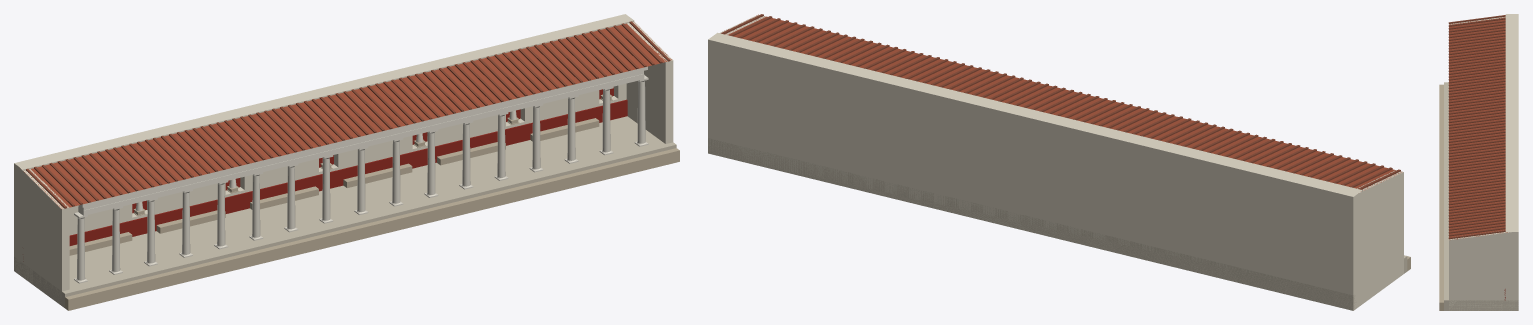
The model's file is ant_portico.glb.
3 renders of one model, left to right at view 1: azimuth 30°, elevation 25°; view 2: azimuth 150°, elevation 25°; view 3: azimuth 270°, elevation 25°, orthographic. The views are drawn at different scales.
Parts seen in each view (by area): view 1: ant_portico; view 2: ant_portico; view 3: ant_portico.
Part boxes in pixels (x1,y1,x2,y2): ant_portico: (14,14,679,310); ant_portico: (708,14,1410,310); ant_portico: (1439,14,1518,310).
Bounding box in the file's own units: 48 × 8.1 × 7.4.
